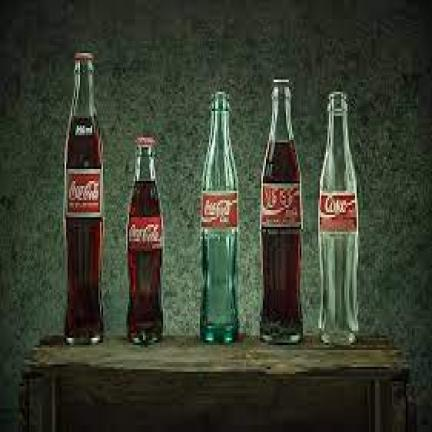container: (260, 80, 301, 340), (65, 56, 101, 340), (318, 92, 357, 340), (200, 92, 237, 340), (128, 138, 161, 340)
fluid: (65, 116, 103, 340), (260, 140, 301, 340), (128, 181, 161, 338)
fluid-surface: (69, 111, 97, 118), (132, 176, 155, 181), (268, 138, 292, 142)
